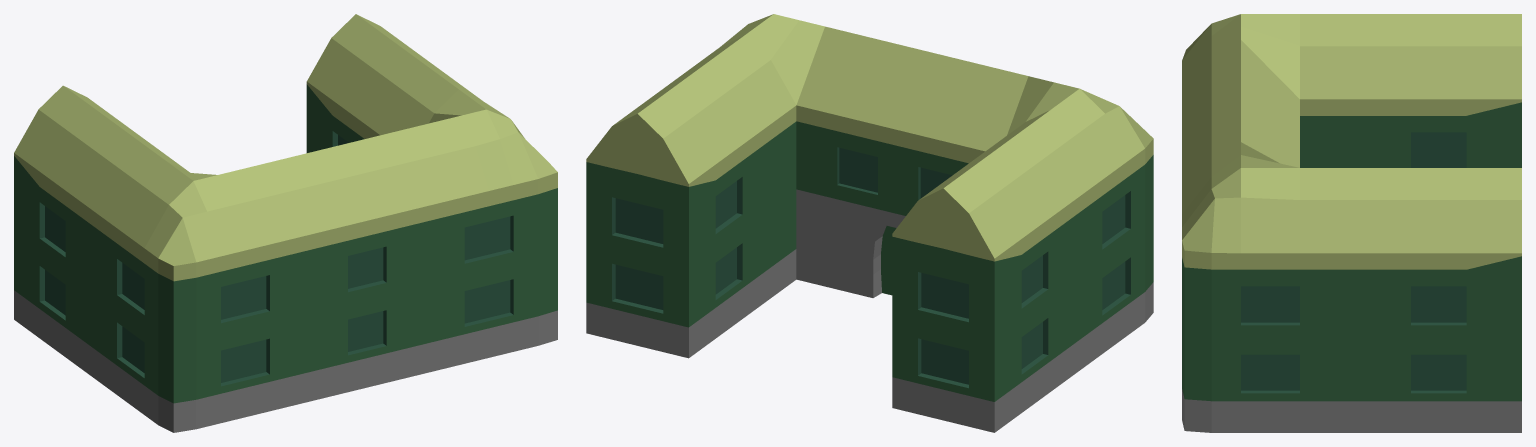
File: barrack_V1.fbx
The picture shows the model from 3 angles, left to right: view 1: azimuth 30°, elevation 25°; view 2: azimuth 150°, elevation 25°; view 3: azimuth 270°, elevation 25°; orthographic projection. The views are drawn at different scales.
Visible parts, largest first — view 1: barrack; view 2: barrack; view 3: barrack.
Boxes of the visible parts, x1=… form: barrack: x1=14, y1=14, x2=557, y2=432; barrack: x1=586, y1=14, x2=1153, y2=432; barrack: x1=1182, y1=14, x2=1521, y2=432.
Size of the model in its own units: 2000 by 1087 by 1399.
